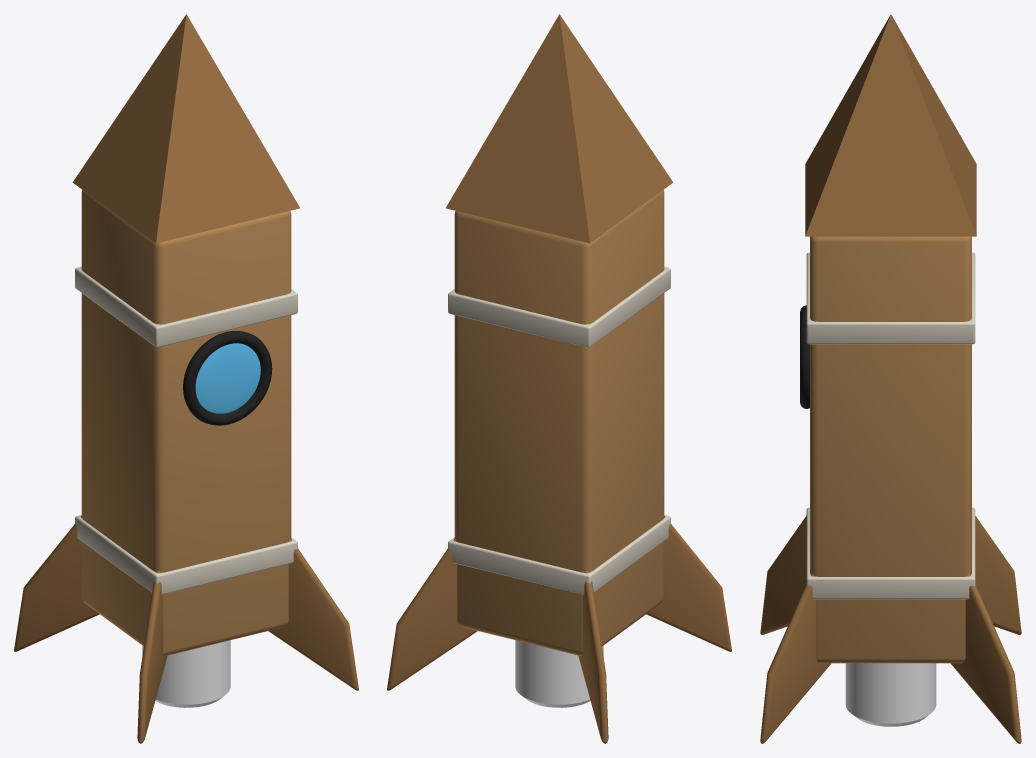
The model's file is Rocket_04_Cardboard.fbx.
3 views of the same model, side by side, from view 1: azimuth 30°, elevation 25°; view 2: azimuth 150°, elevation 25°; view 3: azimuth 270°, elevation 25° (orthographic). The views are drawn at different scales.
Visible parts, largest first — view 1: R04_Body, R04_Roof, R04_CardFin_4, R04_CardFin_2, R04_Tape_2, R04_Tape, R04_Nozzle, R04_DrawnWindow, R04_DrawnFrame, R04_CardFin_3; view 2: R04_Body, R04_Roof, R04_CardFin, R04_CardFin_3, R04_Tape_2, R04_Tape, R04_Nozzle, R04_CardFin_2; view 3: R04_Body, R04_Roof, R04_Nozzle, R04_CardFin_4, R04_CardFin, R04_Tape_2, R04_Tape, R04_CardFin_2, R04_CardFin_3, R04_DrawnFrame.
Boxes of the visible parts, x1,y1,x2,y2 form: R04_Body: (81, 190, 291, 656); R04_Roof: (72, 14, 299, 243); R04_CardFin_4: (268, 538, 358, 690); R04_CardFin_2: (14, 516, 99, 651); R04_Tape_2: (75, 266, 297, 347); R04_Tape: (75, 515, 297, 594); R04_Nozzle: (142, 640, 230, 707); R04_DrawnWindow: (195, 343, 260, 413); R04_DrawnFrame: (183, 331, 272, 425); R04_CardFin_3: (137, 570, 167, 743); R04_Body: (454, 190, 664, 656); R04_Roof: (446, 14, 673, 243); R04_CardFin: (387, 538, 477, 690); R04_CardFin_3: (646, 516, 731, 651); R04_Tape_2: (448, 266, 670, 347); R04_Tape: (448, 515, 670, 594); R04_Nozzle: (515, 640, 603, 707); R04_CardFin_2: (578, 570, 608, 743); R04_Body: (810, 236, 971, 663); R04_Roof: (805, 14, 976, 236); R04_Nozzle: (845, 663, 936, 726); R04_CardFin_4: (760, 573, 831, 743); R04_CardFin: (950, 574, 1021, 743); R04_Tape_2: (806, 252, 975, 344); R04_Tape: (806, 507, 975, 599); R04_CardFin_2: (975, 516, 1021, 634); R04_CardFin_3: (760, 516, 806, 634); R04_DrawnFrame: (800, 305, 809, 408).
Bounding box in the file's own units: 2.41 × 7.1 × 2.41.
